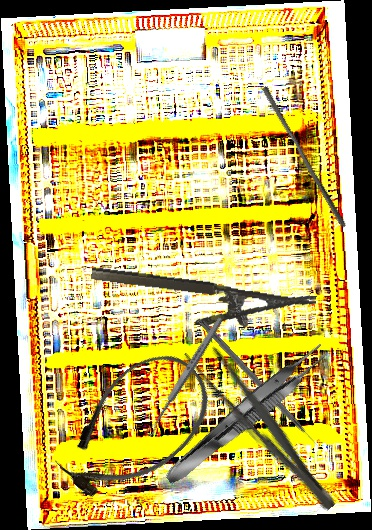Cannula: (40, 336, 229, 518)
Dressing Forceps: (179, 334, 347, 519)
Hook Surgical: (198, 320, 322, 452)
Needle Holder: (86, 264, 317, 342)
Pusher: (256, 85, 353, 229)
Surgical Spoon: (143, 315, 226, 438)
Tissue Forceps: (158, 336, 334, 492)
